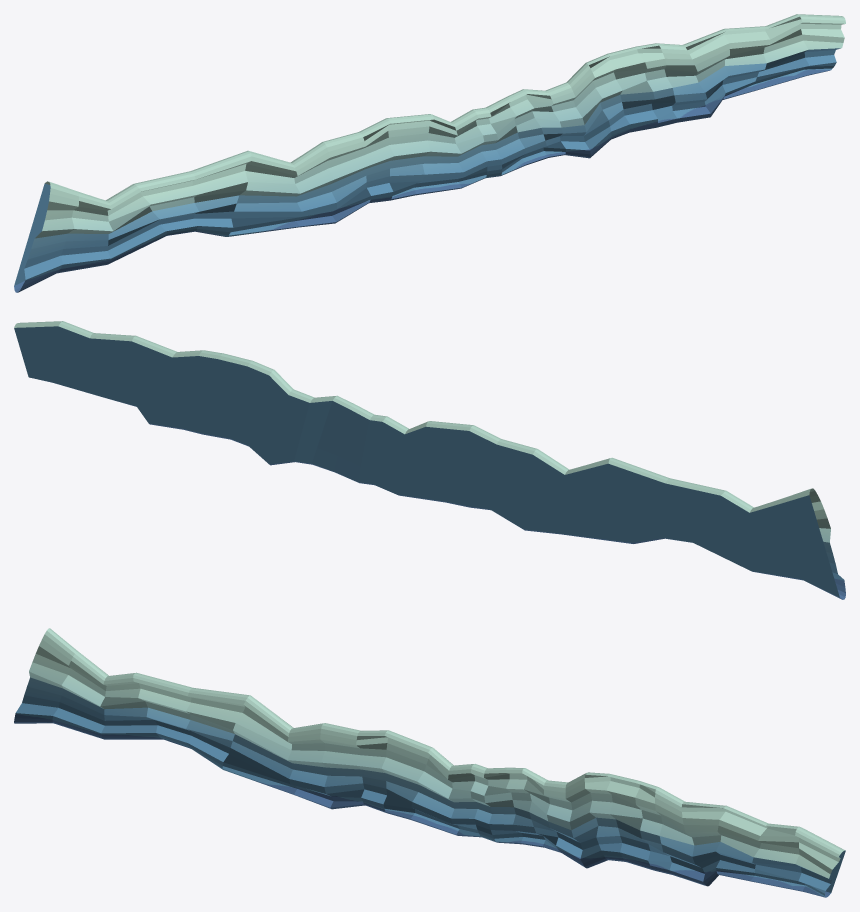
Rendered from galaxy3.obj.
The picture shows the model from 3 angles, top to bottom: view 1: azimuth 30°, elevation 25°; view 2: azimuth 150°, elevation 25°; view 3: azimuth 330°, elevation 25°; orthographic projection.
Visible parts, largest first — view 1: 円.003; view 2: 円.003; view 3: 円.003.
Boxes of the visible parts, <box> form: 円.003: <box>14,14,845,292</box>; 円.003: <box>14,321,845,599</box>; 円.003: <box>14,628,845,897</box>.
Bounding box in the file's own units: 57.74 × 7.4 × 1.17.
1 material, 1 textured.
